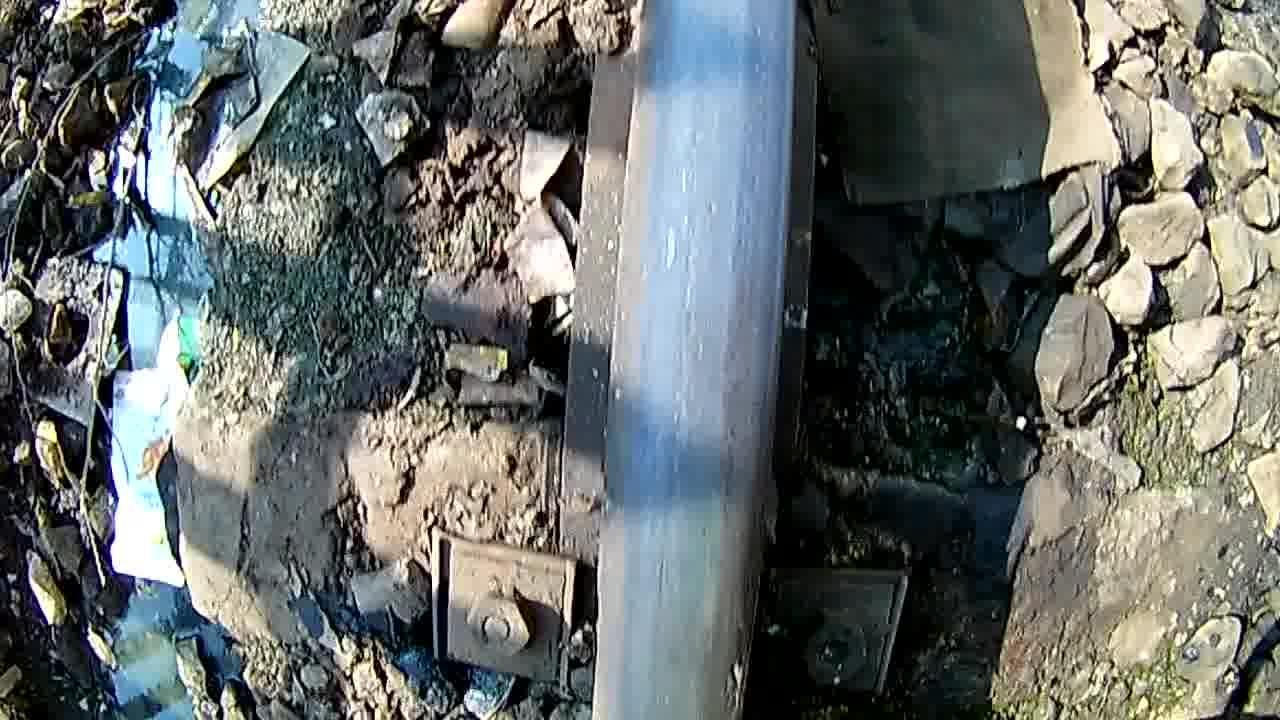crack: (606, 0, 798, 653)
